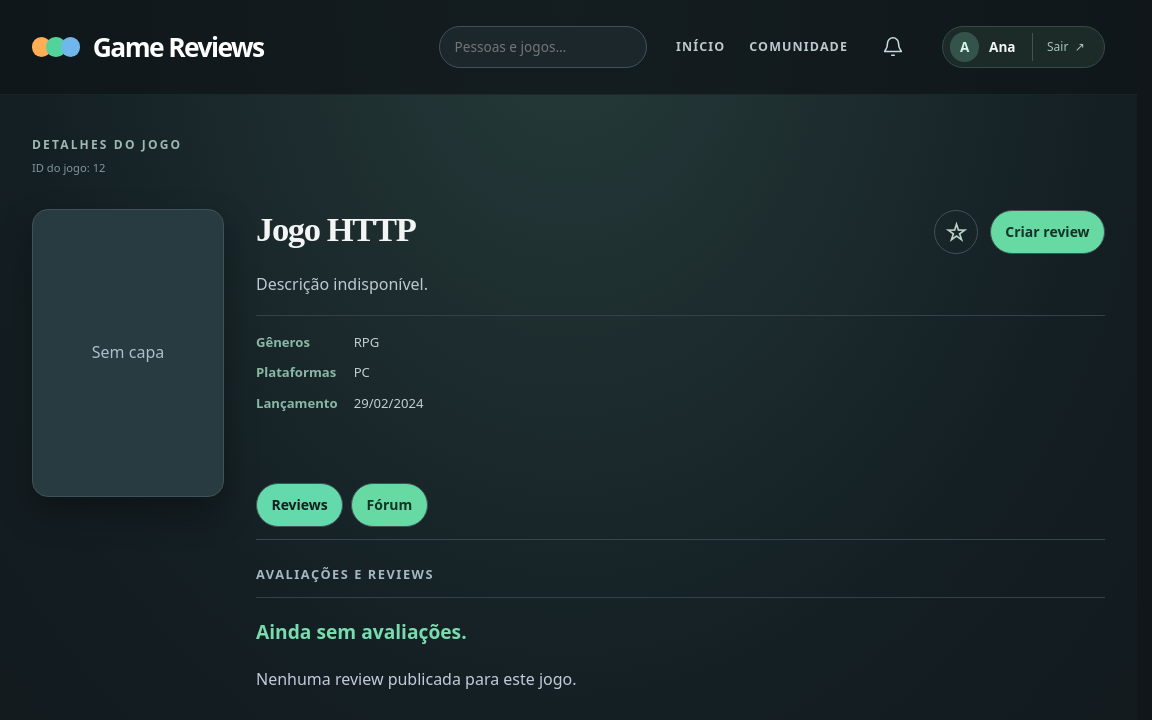
Scenario: uma ação e nota sem seleção; ausente não vira zero; cancelar não escreve
Click the button "Criar review" at (1047, 232), box 990,210 -> 1105,254
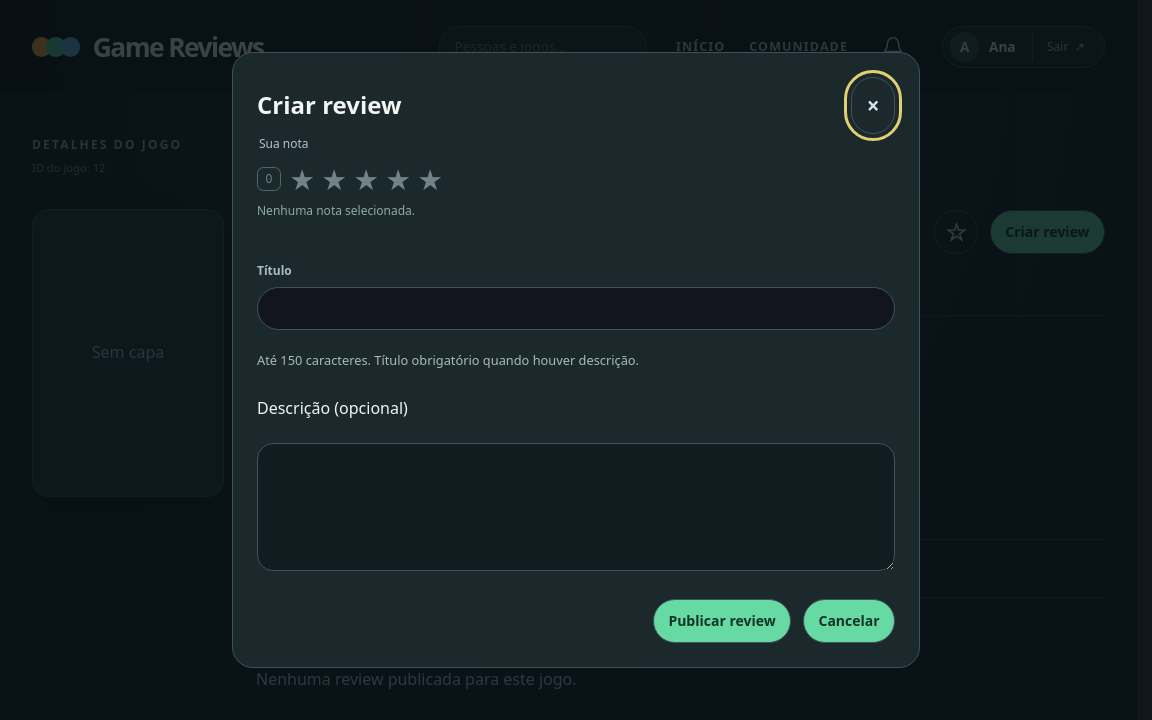
Expected: the text "Nenhuma nota selecionada." is shown, 257,202 -> 415,219
Submit the form named "Publicar review", box 257,134 -> 895,643
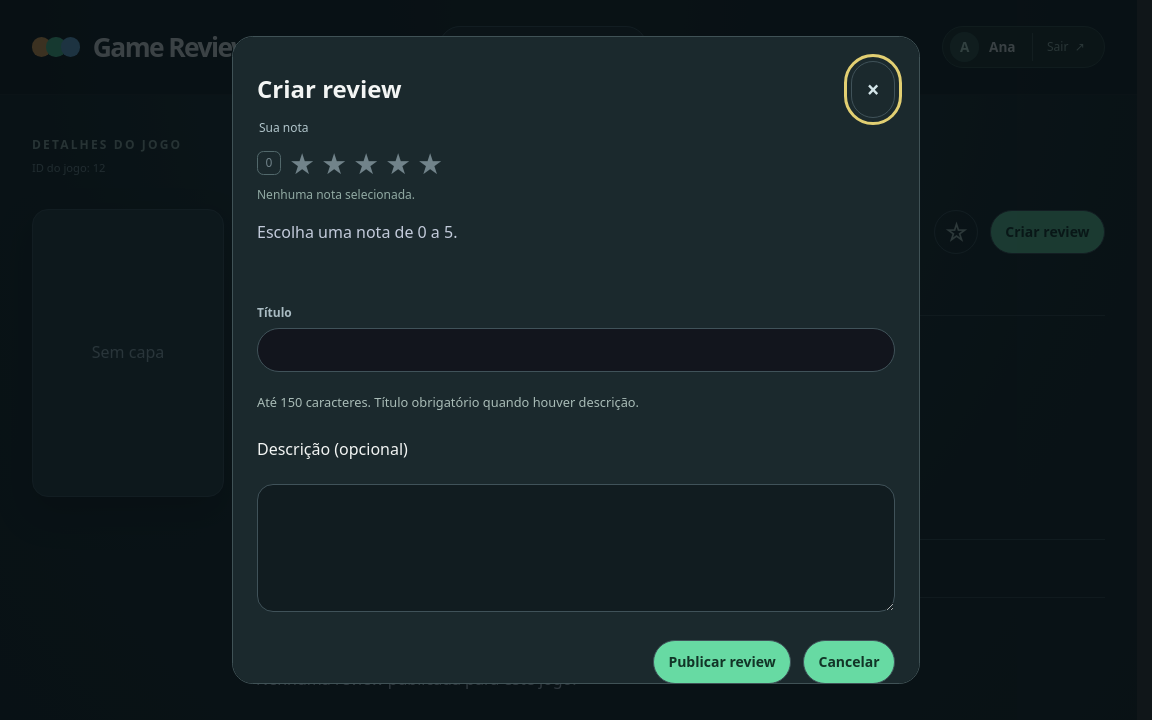
Expected: the text "Escolha uma nota de 0 a 5." is shown, 257,221 -> 458,243
Click the button "Cancelar" at (849, 662), box 803,640 -> 895,684
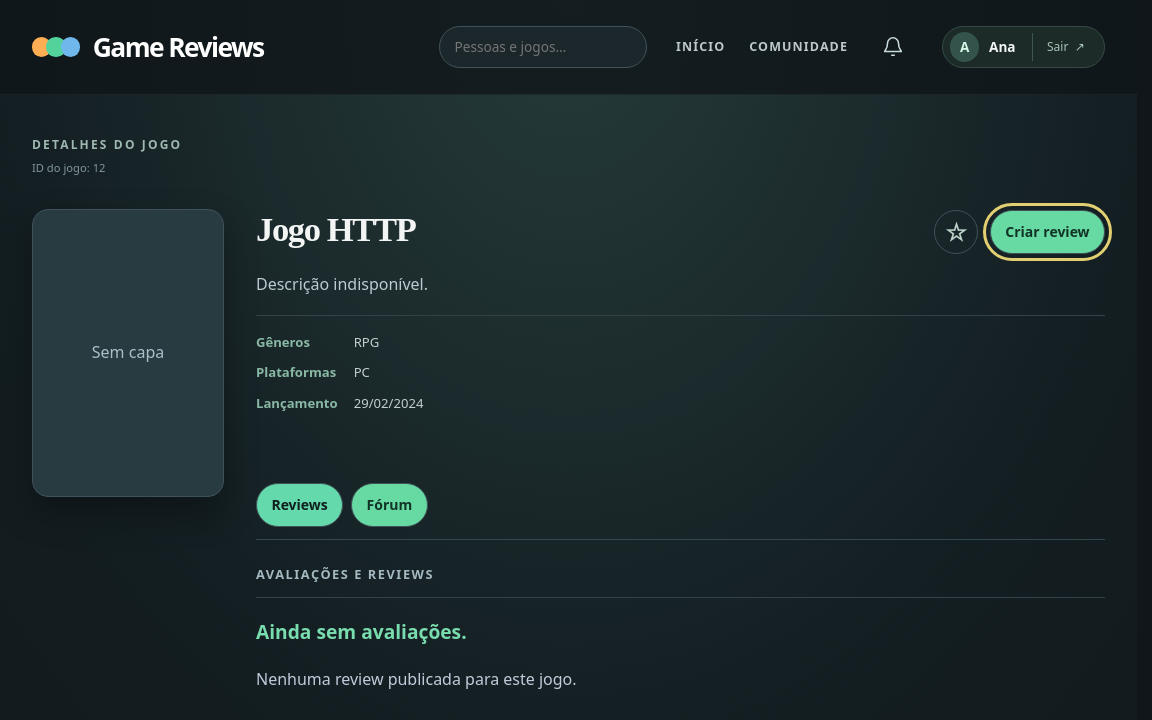
Expected: the button "Publicar review" is gone
